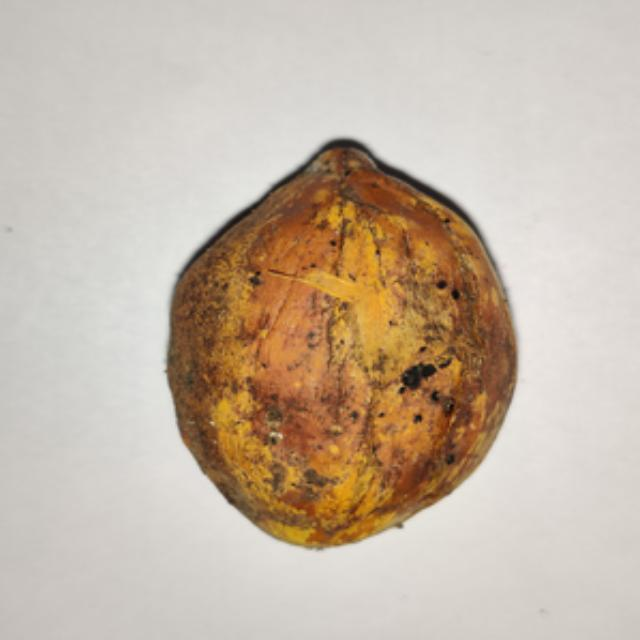good: (167, 141, 512, 546)
